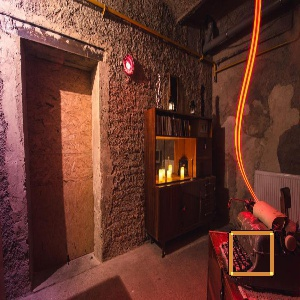square: (228, 228, 277, 278)
